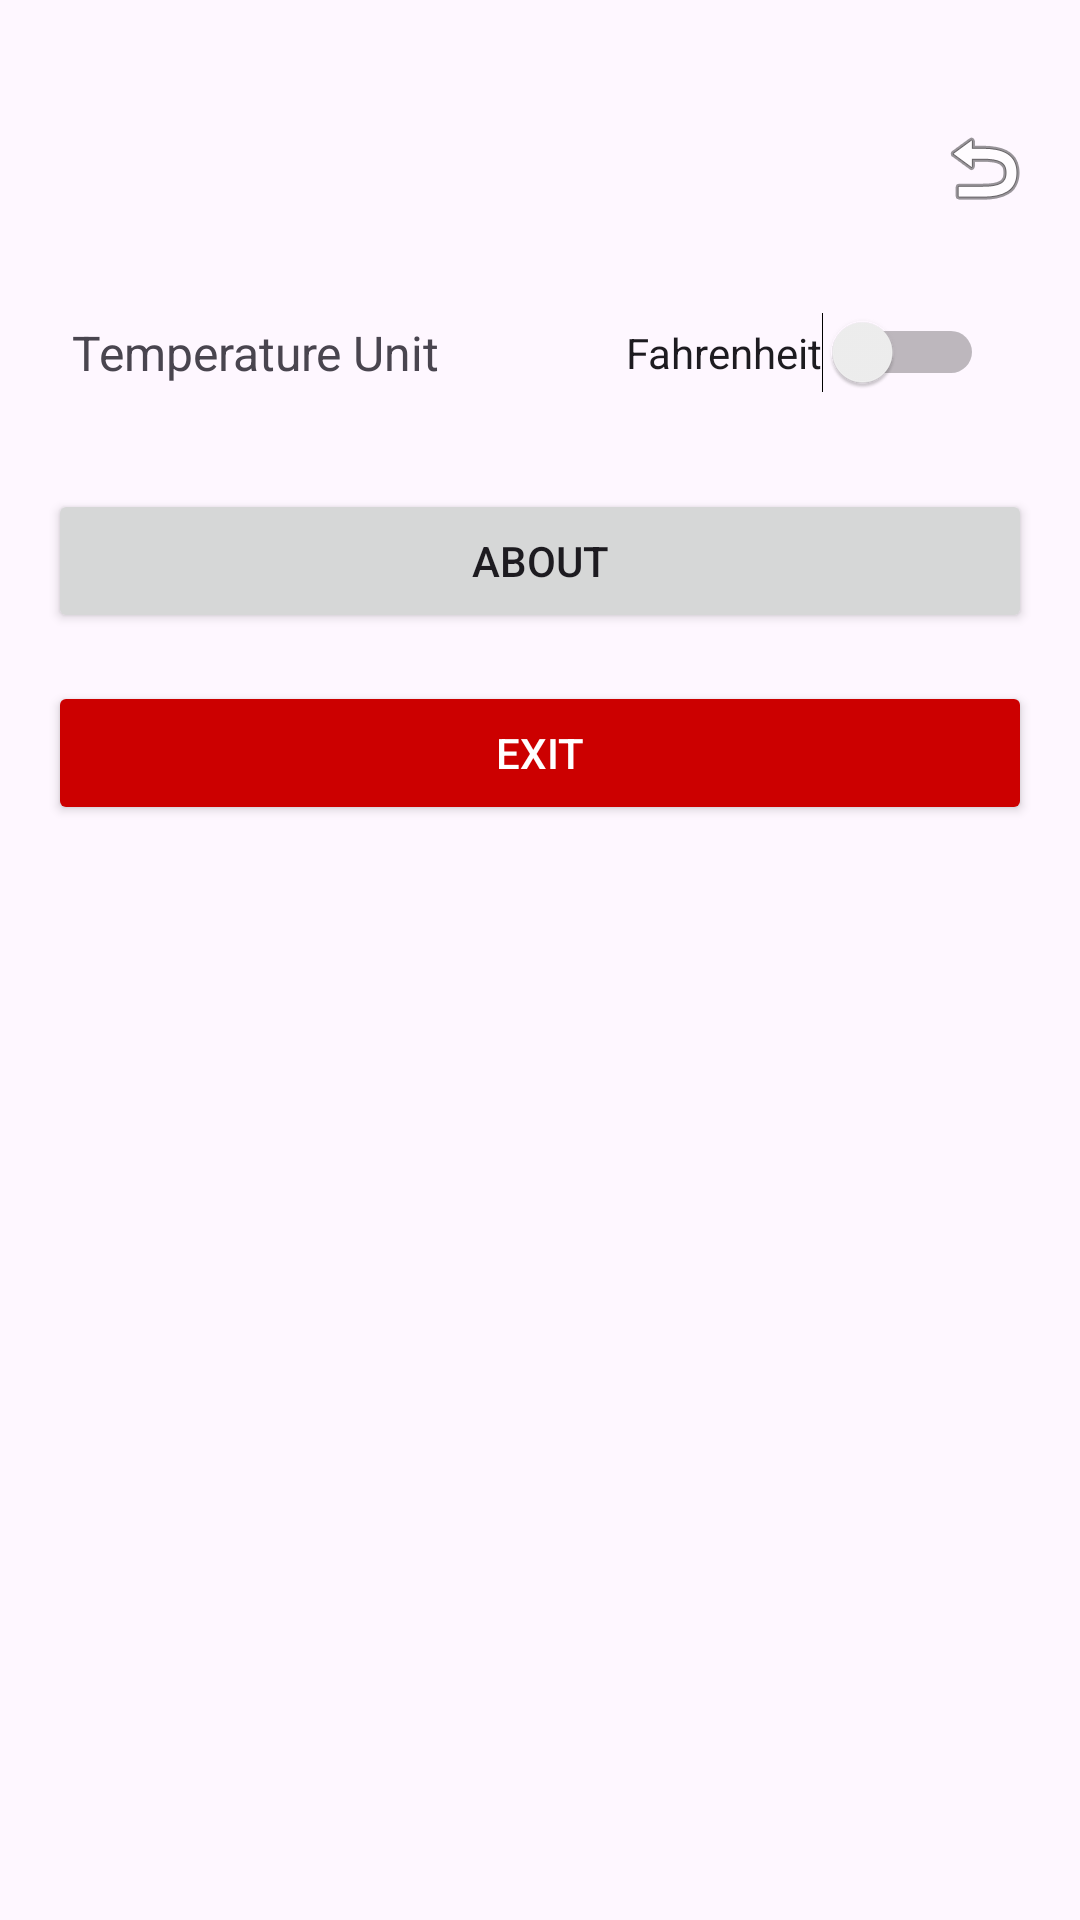

Named icons in this screenshot (1080 × 1920) and their centers, (x=x, y=y):
Back: (x=985, y=168)
